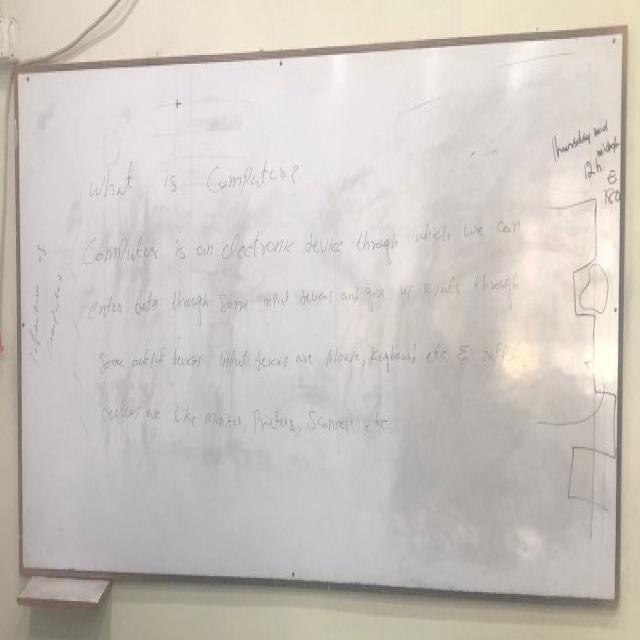White-board: (18, 30, 627, 603)
